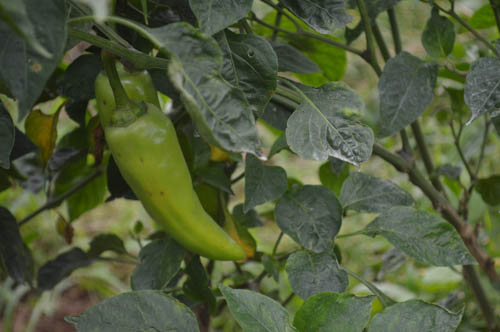ChiliPepper: (112, 108, 245, 265), (92, 68, 161, 119)
